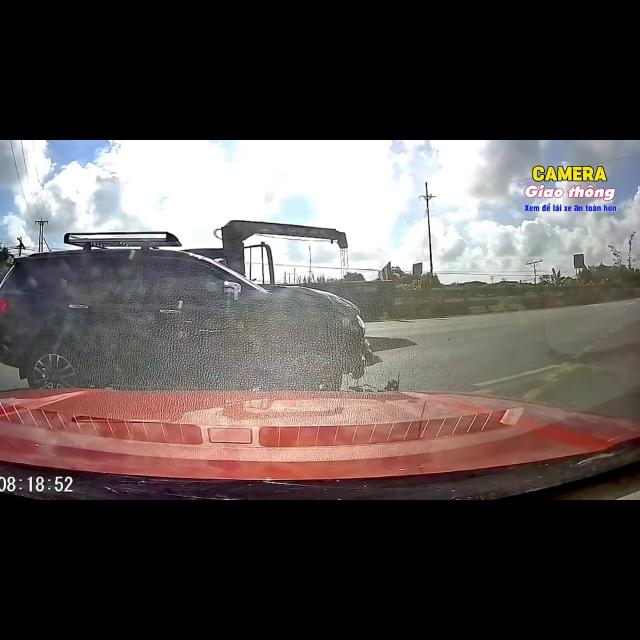car: (0, 247, 374, 390)
truck: (0, 222, 379, 390)
